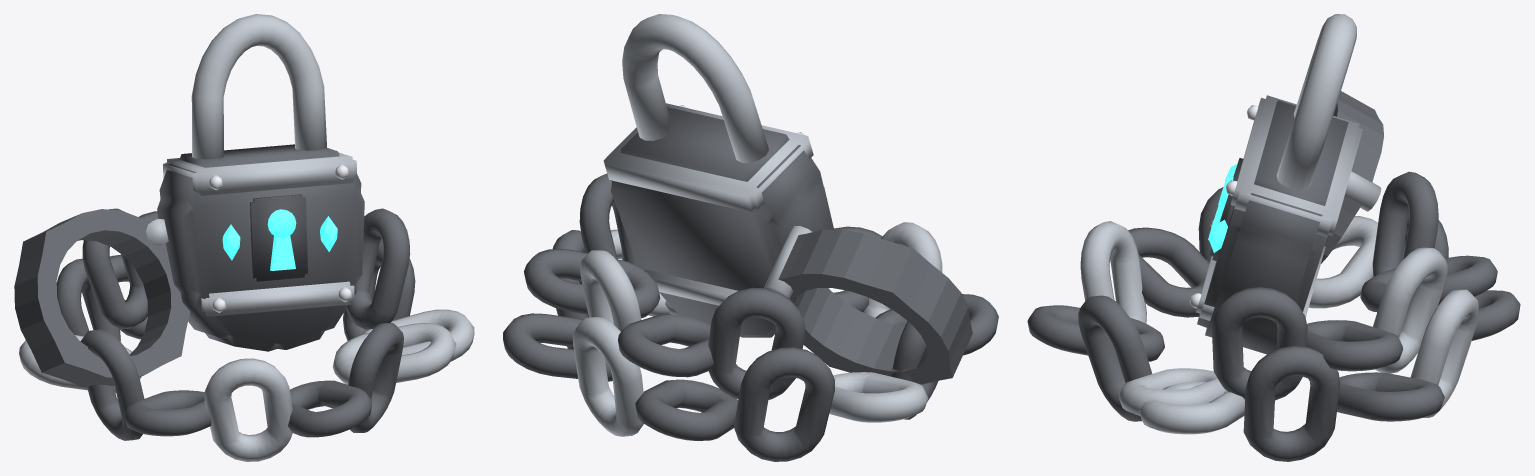
File: TRELIC_IRON_CHAIN.glb
3 renders of one model, left to right at view 1: azimuth 30°, elevation 25°; view 2: azimuth 150°, elevation 25°; view 3: azimuth 270°, elevation 25°, orthographic. The views are drawn at different scales.
Parts seen in each view (by area): view 1: PadlockBody, IronShackleCuff, PadlockUShackle, ChainLink_9, ChainLink_13, LockBandTop, ChainLink_10, ChainLink_7, ChainLink_11, ChainLink_17, KeyholeEscutcheon, ChainLink_12 (+10 smaller); view 2: PadlockBody, IronShackleCuff, PadlockUShackle, ChainLink_5, LockBandTop, ChainLink_3, ChainLink_17, ChainLink_4, ChainLink_16, ChainLink_14, ChainLink_6, ChainLink_2 (+9 smaller); view 3: PadlockBody, ChainLink_1, PadlockUShackle, ChainLink_13, ChainLink_15, LockBandTop, ChainLink_11, ChainLink_17, ChainLink_9, ChainLink_3, ChainLink_8, ChainLink_2 (+11 smaller).
Boxes of the visible parts, <box> form: PadlockBody: <box>157,144,364,351</box>; IronShackleCuff: <box>14,209,190,387</box>; PadlockUShackle: <box>191,14,326,159</box>; ChainLink_9: <box>204,358,292,461</box>; ChainLink_13: <box>346,208,410,329</box>; LockBandTop: <box>163,152,357,195</box>; ChainLink_10: <box>288,380,372,437</box>; ChainLink_7: <box>80,329,144,440</box>; ChainLink_11: <box>348,323,403,432</box>; ChainLink_17: <box>82,208,147,329</box>; KeyholeEscutcheon: <box>250,194,307,281</box>; ChainLink_12: <box>332,323,456,384</box>; PadlockBody: <box>611,107,833,337</box>; IronShackleCuff: <box>778,229,972,384</box>; PadlockUShackle: <box>622,14,768,162</box>; ChainLink_5: <box>734,347,834,461</box>; LockBandTop: <box>603,103,813,213</box>; ChainLink_3: <box>573,317,643,436</box>; ChainLink_17: <box>708,287,805,399</box>; ChainLink_4: <box>635,379,738,440</box>; ChainLink_16: <box>618,314,713,377</box>; ChainLink_14: <box>524,248,660,318</box>; ChainLink_6: <box>829,372,928,422</box>; ChainLink_2: <box>503,313,612,381</box>; PadlockBody: <box>1197,100,1348,354</box>; ChainLink_1: <box>1243,346,1340,461</box>; PadlockUShackle: <box>1276,14,1356,190</box>; ChainLink_13: <box>1212,287,1307,400</box>; ChainLink_15: <box>1373,247,1447,373</box>; LockBandTop: <box>1230,95,1362,238</box>; ChainLink_11: <box>1078,295,1152,421</box>; ChainLink_17: <box>1372,171,1438,276</box>; ChainLink_9: <box>1080,221,1146,323</box>; ChainLink_3: <box>1410,289,1478,417</box>; ChainLink_8: <box>1128,227,1209,317</box>; ChainLink_2: <box>1337,372,1444,421</box>.
Size of the model in its own units: 0.1444 by 0.1245 by 0.1431.
